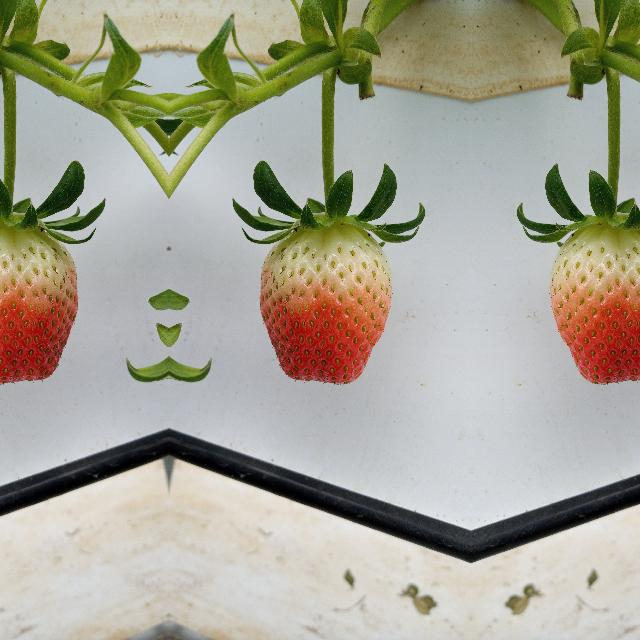Health_75: (257, 223, 393, 385), (548, 223, 640, 385), (0, 223, 79, 385)
